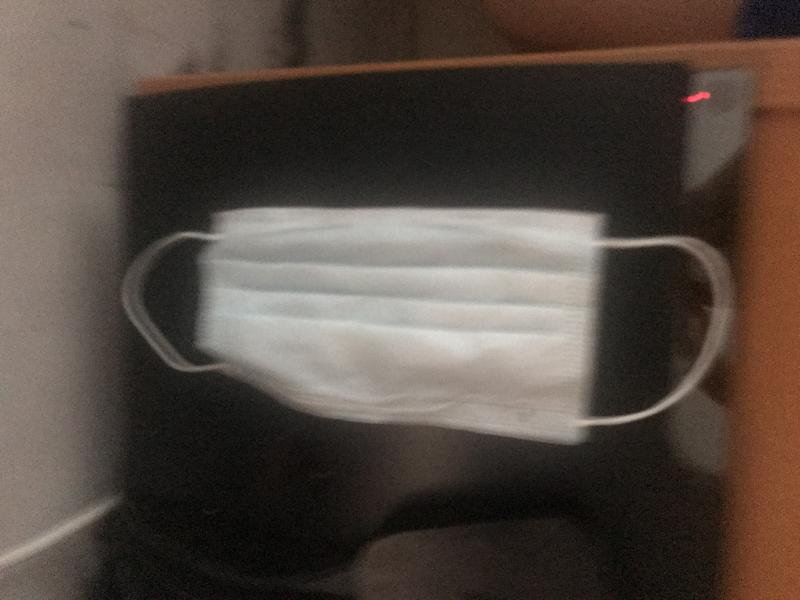medical_mask: (122, 207, 727, 446)
